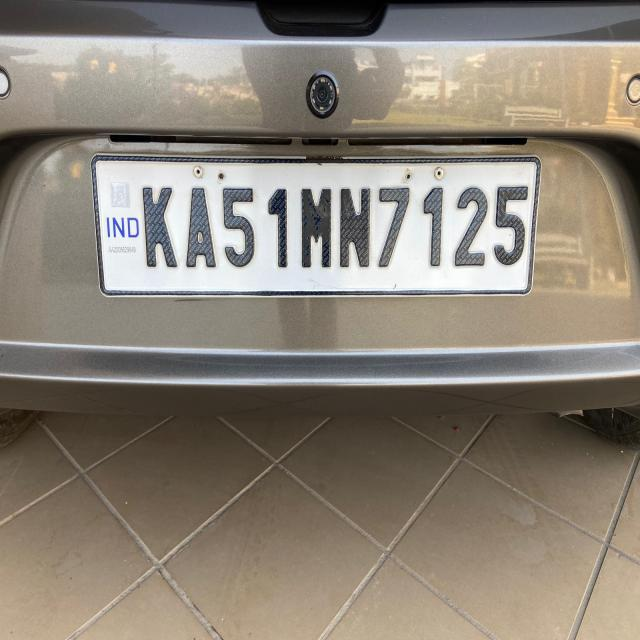1: (262, 180, 296, 278), (414, 185, 446, 278)
5: (215, 178, 263, 274), (495, 179, 530, 268)
7: (374, 178, 413, 274)
A: (182, 176, 222, 273)
K: (138, 180, 178, 273)
M: (297, 183, 338, 269)
N: (334, 183, 379, 271)
